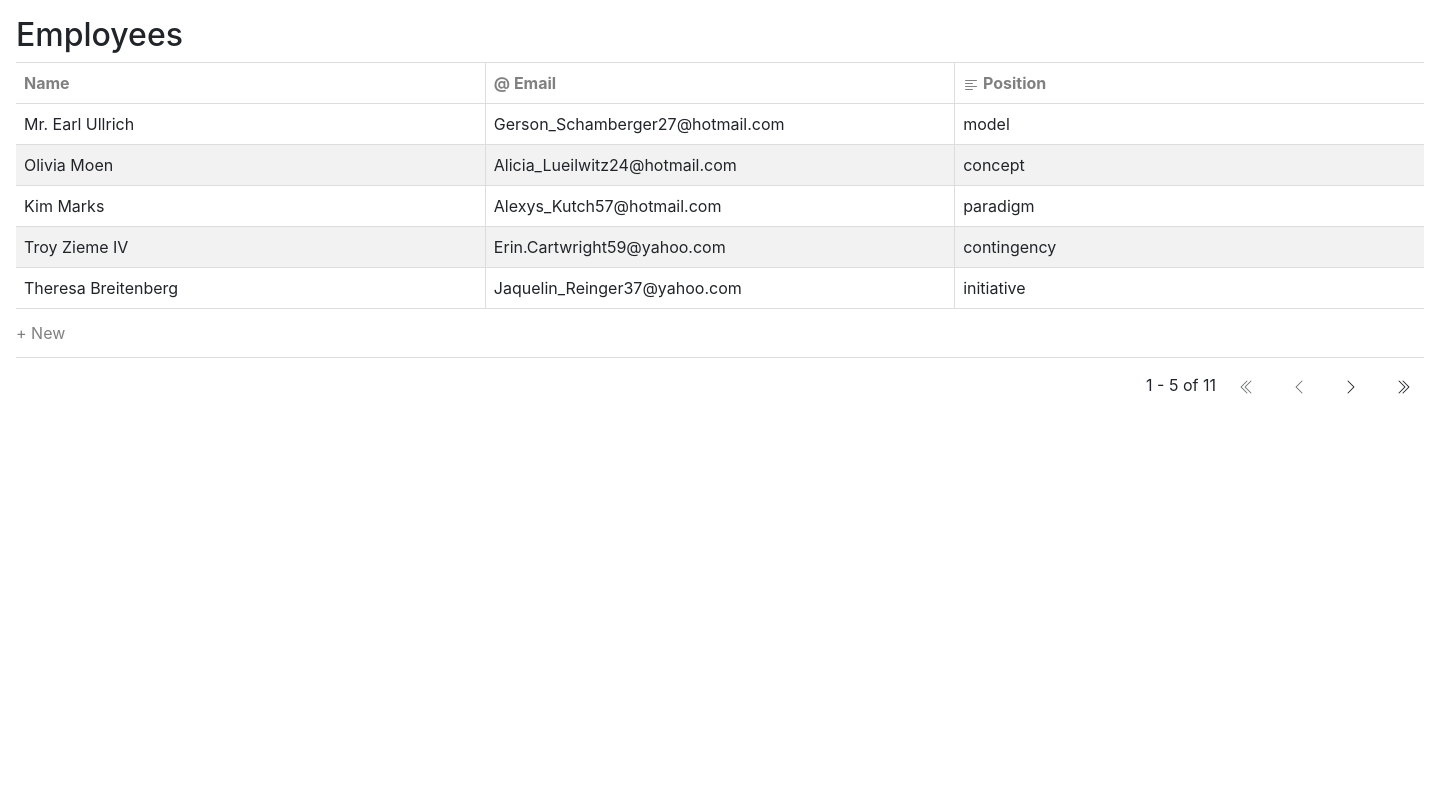
Test: Integration test Table › When add new employee successful
Expected: the text "Mr. Earl Ullrich" is shown, [16,104,485,145]
Click the text "+ New". click: (720, 334)
box: [16,309,1424,358]
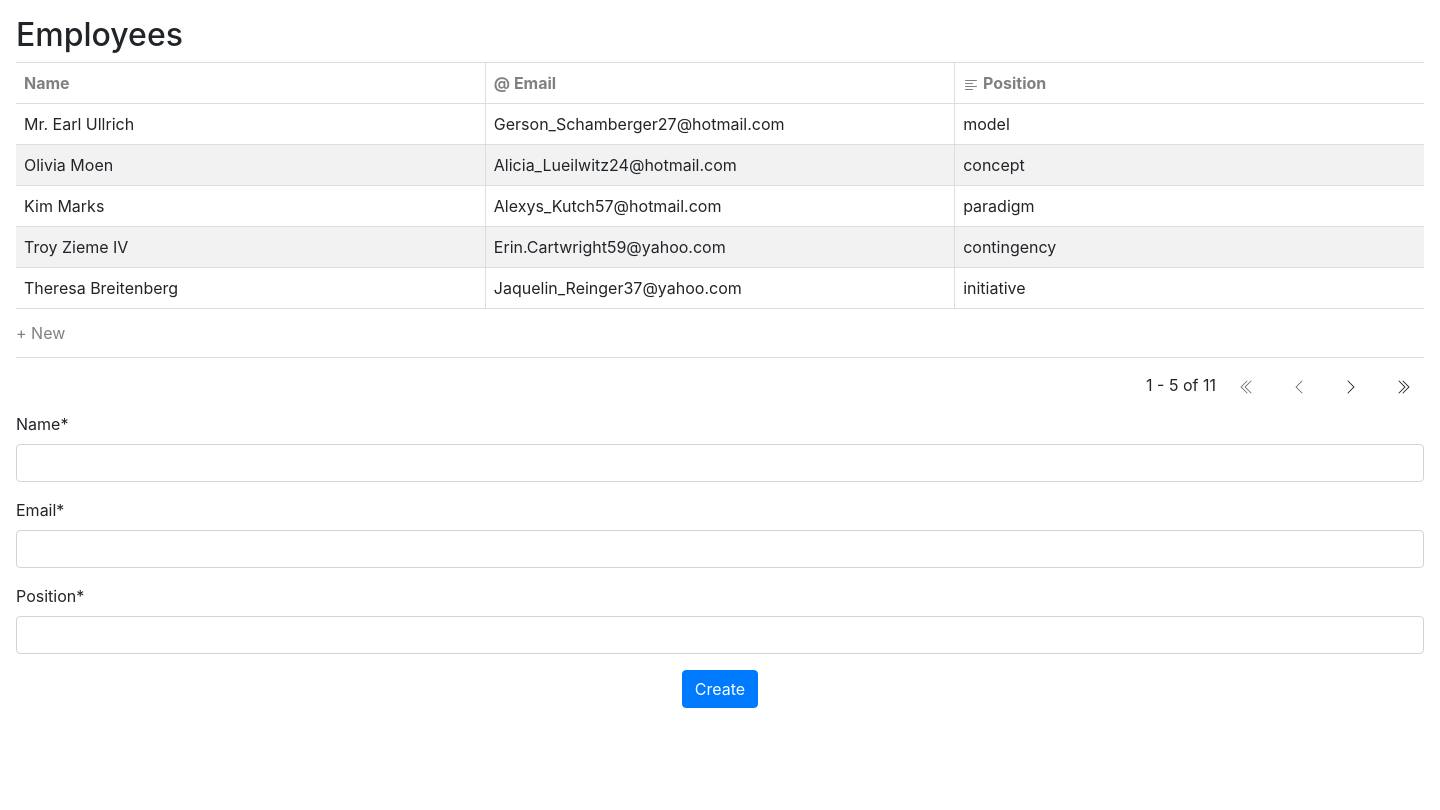
Expected: the field with id "name" is shown
Expected: the field with id "email" is shown, [16,530,1424,568]
Expected: the field labelled "Position*" is shown, [16,616,1424,654]
Type "name" into the field with id "name". click: (720, 463)
box: [16,444,1424,482]
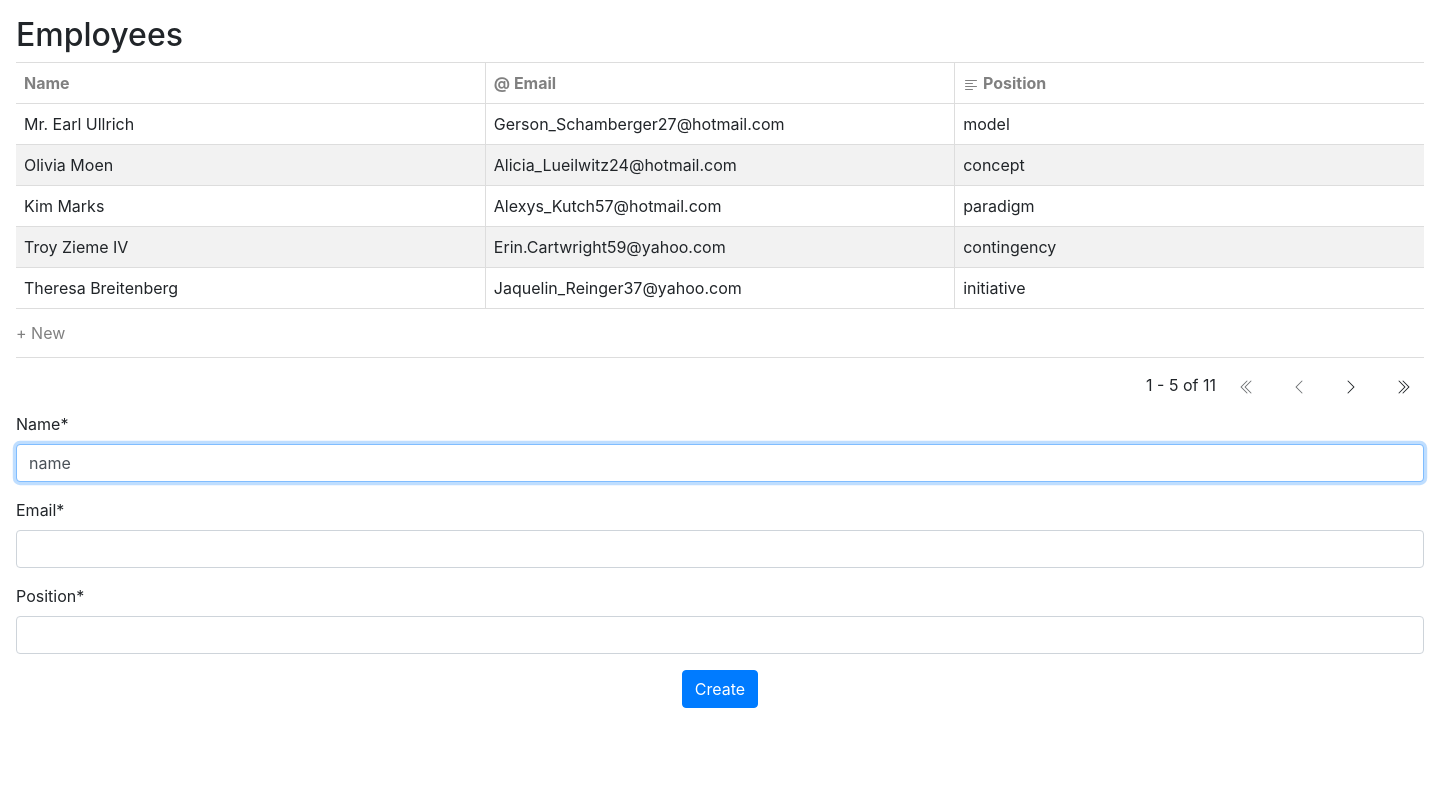
Type "email@gmail.com" into the field with id "email". click: (720, 549)
box: [16,530,1424,568]
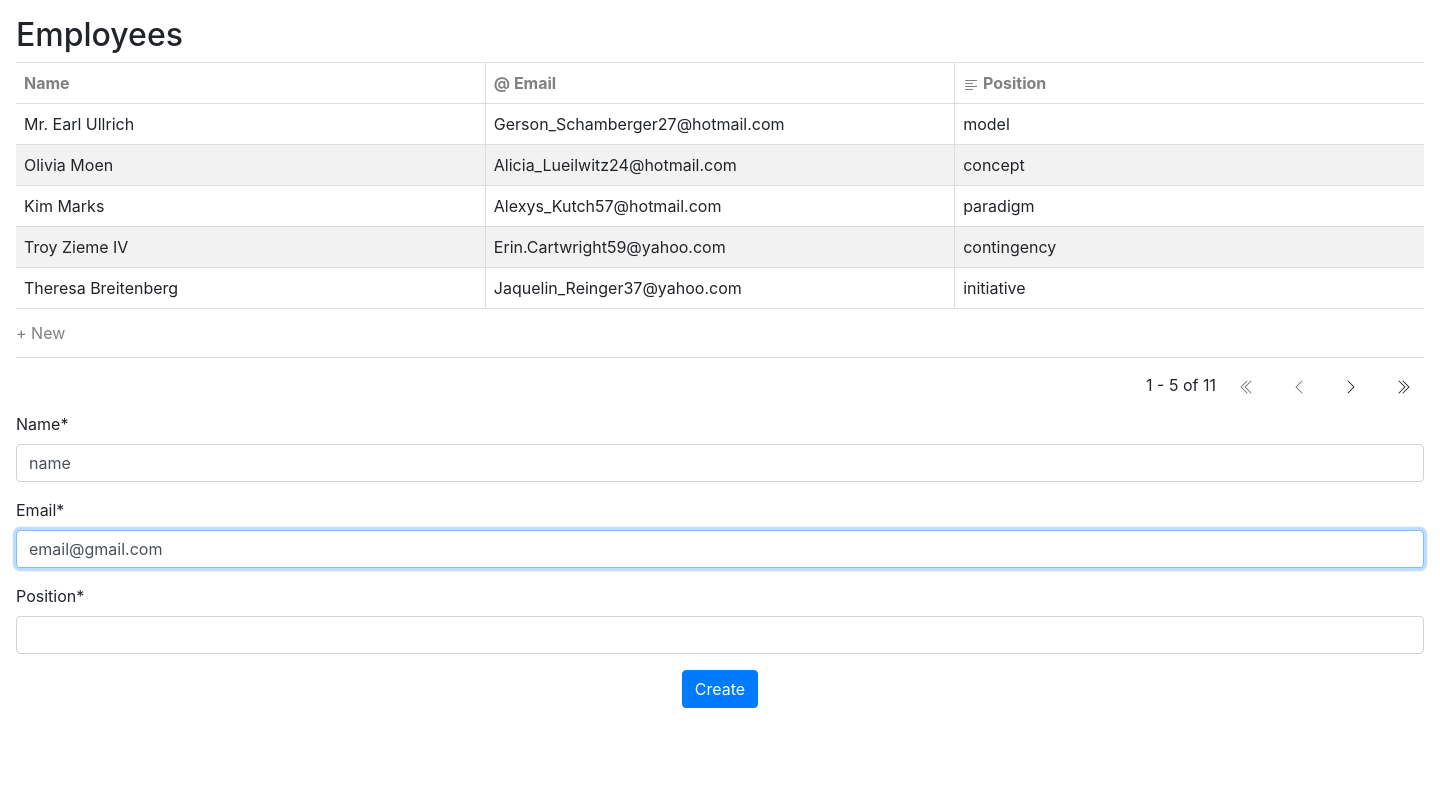
Type "position" into the field labelled "Position*". click: (720, 635)
box: [16,616,1424,654]
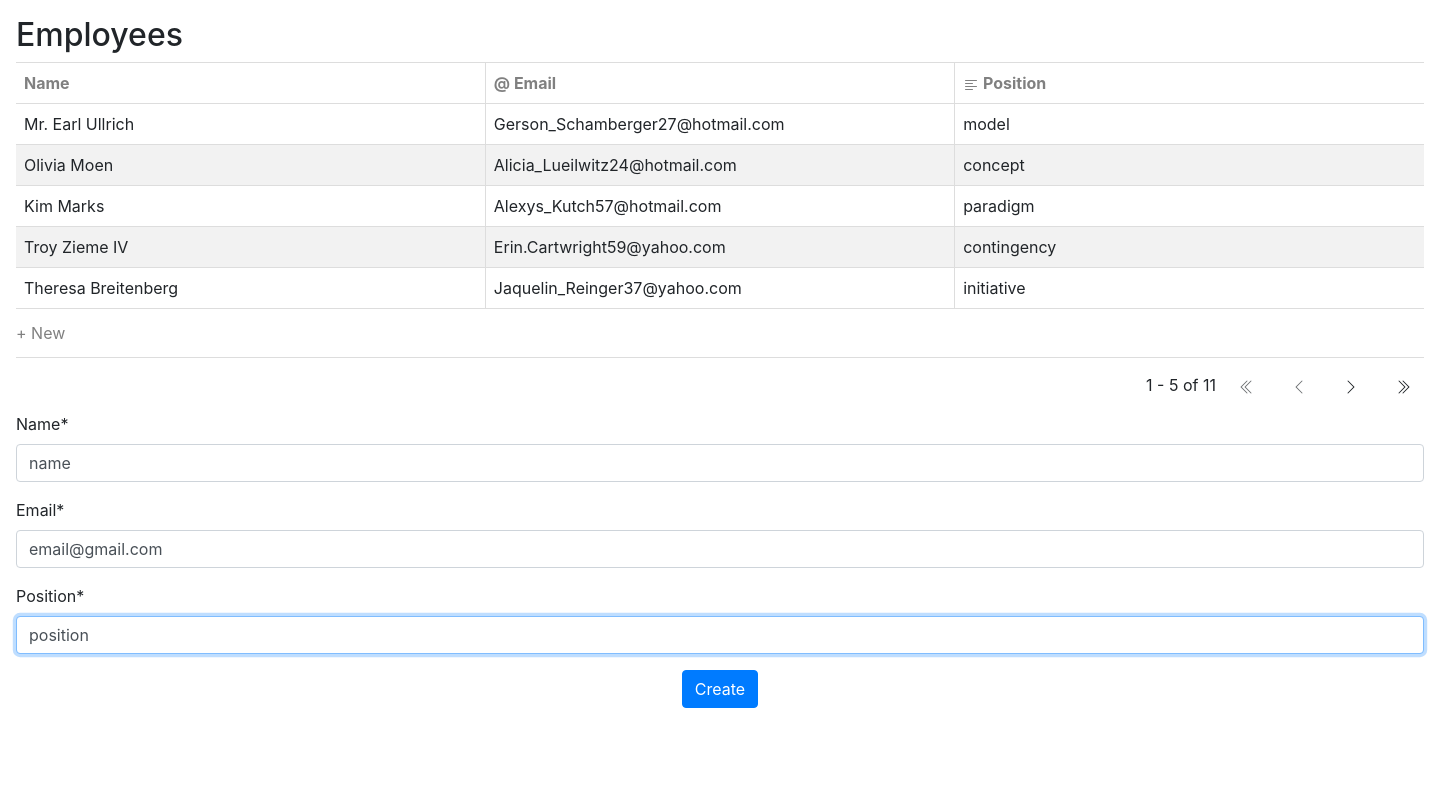
Click the button "Create". click: (720, 689)
box: [682,670,758,708]
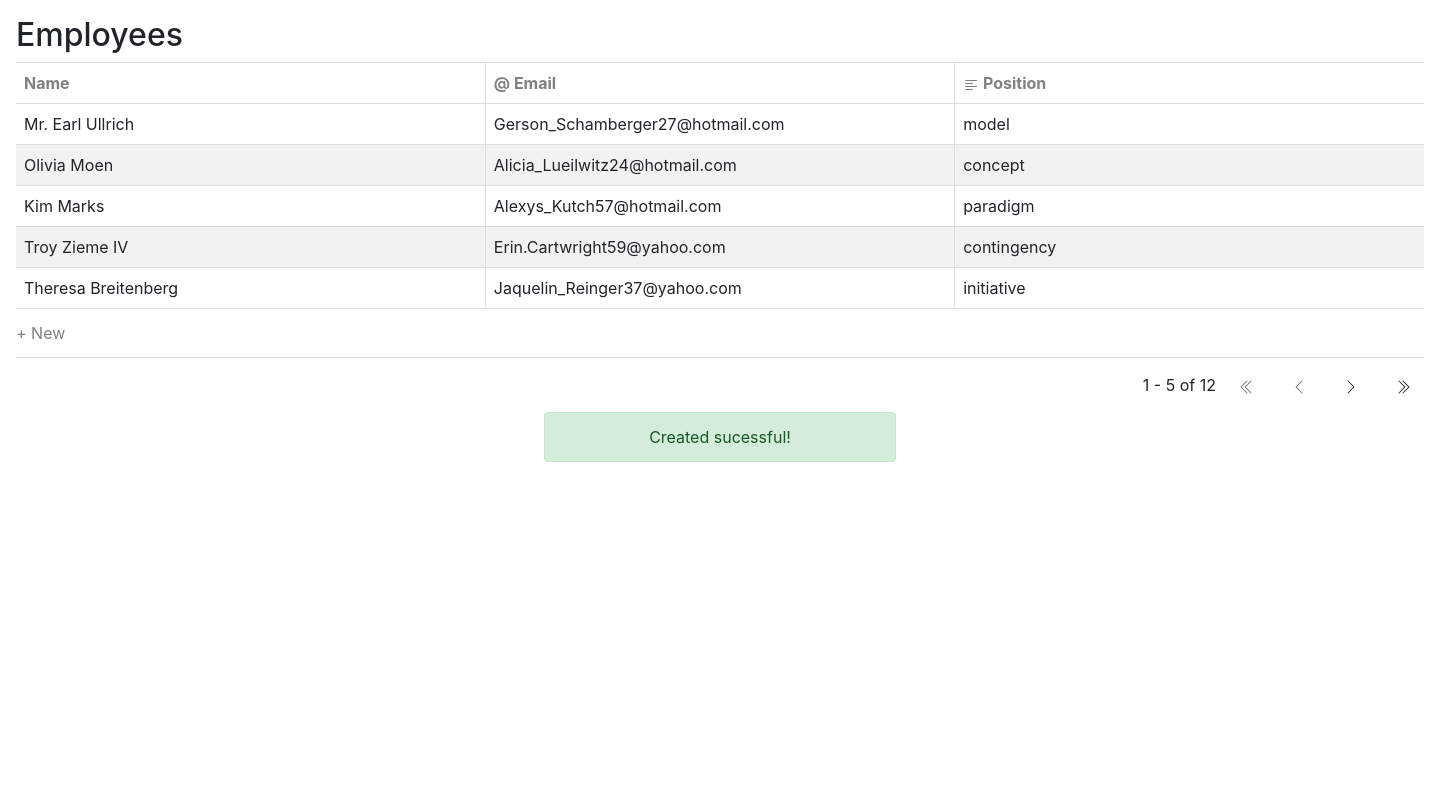
Expected: the text "Created sucessful!" is shown, [544,412,896,462]
